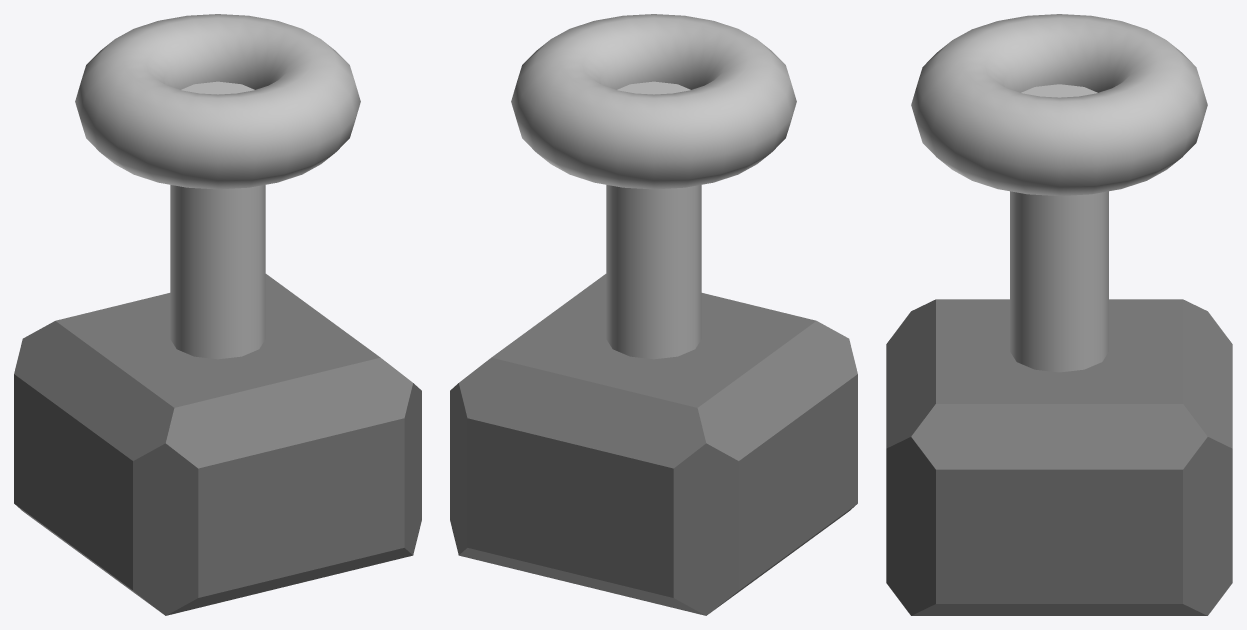
The model's file is Tesla.fbx.
The picture shows the model from 3 angles, left to right: view 1: azimuth 30°, elevation 25°; view 2: azimuth 150°, elevation 25°; view 3: azimuth 270°, elevation 25°; orthographic projection. The views are drawn at different scales.
Visible parts, largest first — view 1: Box001, Torus001, Cylinder001; view 2: Box001, Torus001, Cylinder001; view 3: Box001, Torus001, Cylinder001.
Part boxes in pixels (box(x1,y1,x2,y2)): Box001: box(14, 274, 421, 615); Torus001: box(75, 14, 360, 189); Cylinder001: box(170, 81, 265, 359); Box001: box(450, 274, 857, 615); Torus001: box(511, 14, 796, 189); Cylinder001: box(606, 81, 701, 359); Box001: box(886, 299, 1232, 615); Torus001: box(911, 14, 1207, 195); Cylinder001: box(1010, 84, 1108, 372).
Bounding box in the file's own units: 140 × 140 × 220.
2 materials, 2 textured.
